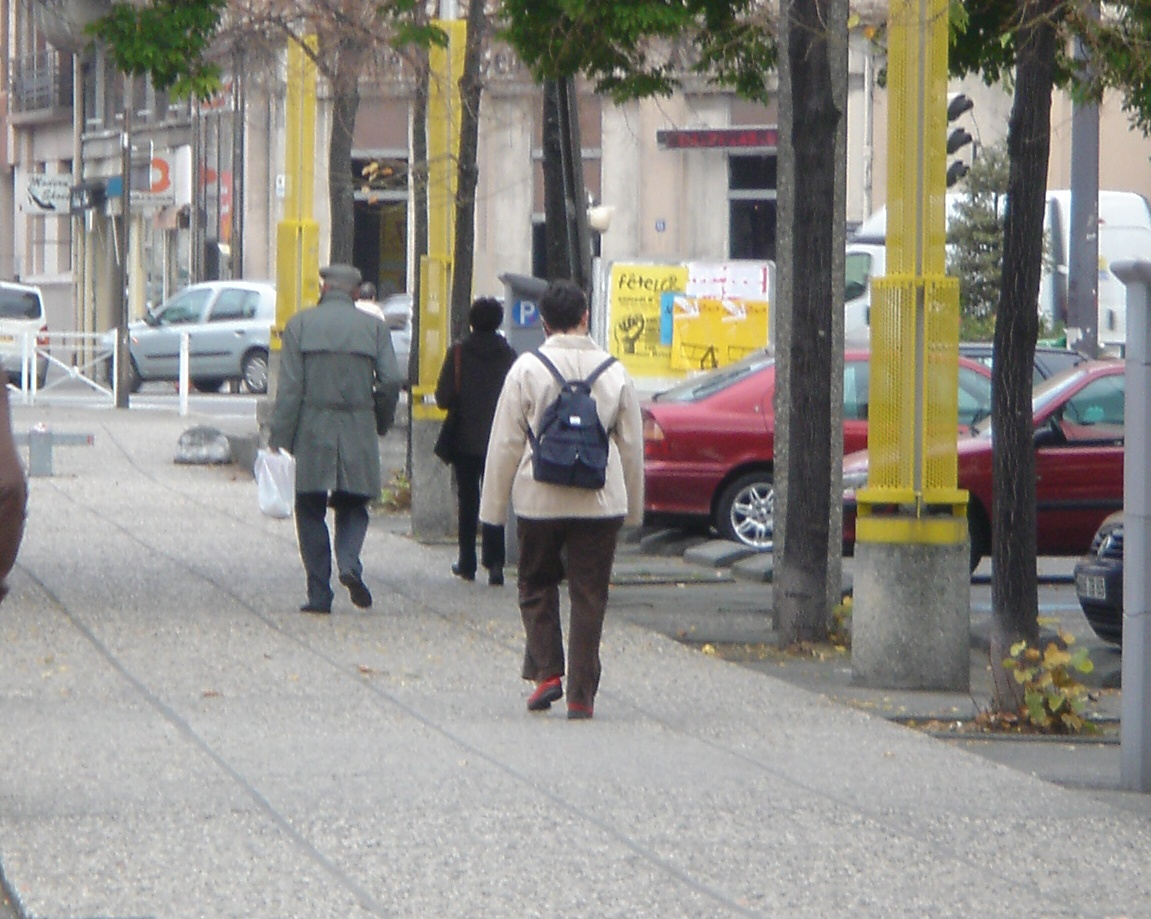person: (497, 280, 638, 721), (277, 258, 400, 614), (439, 289, 523, 590)
